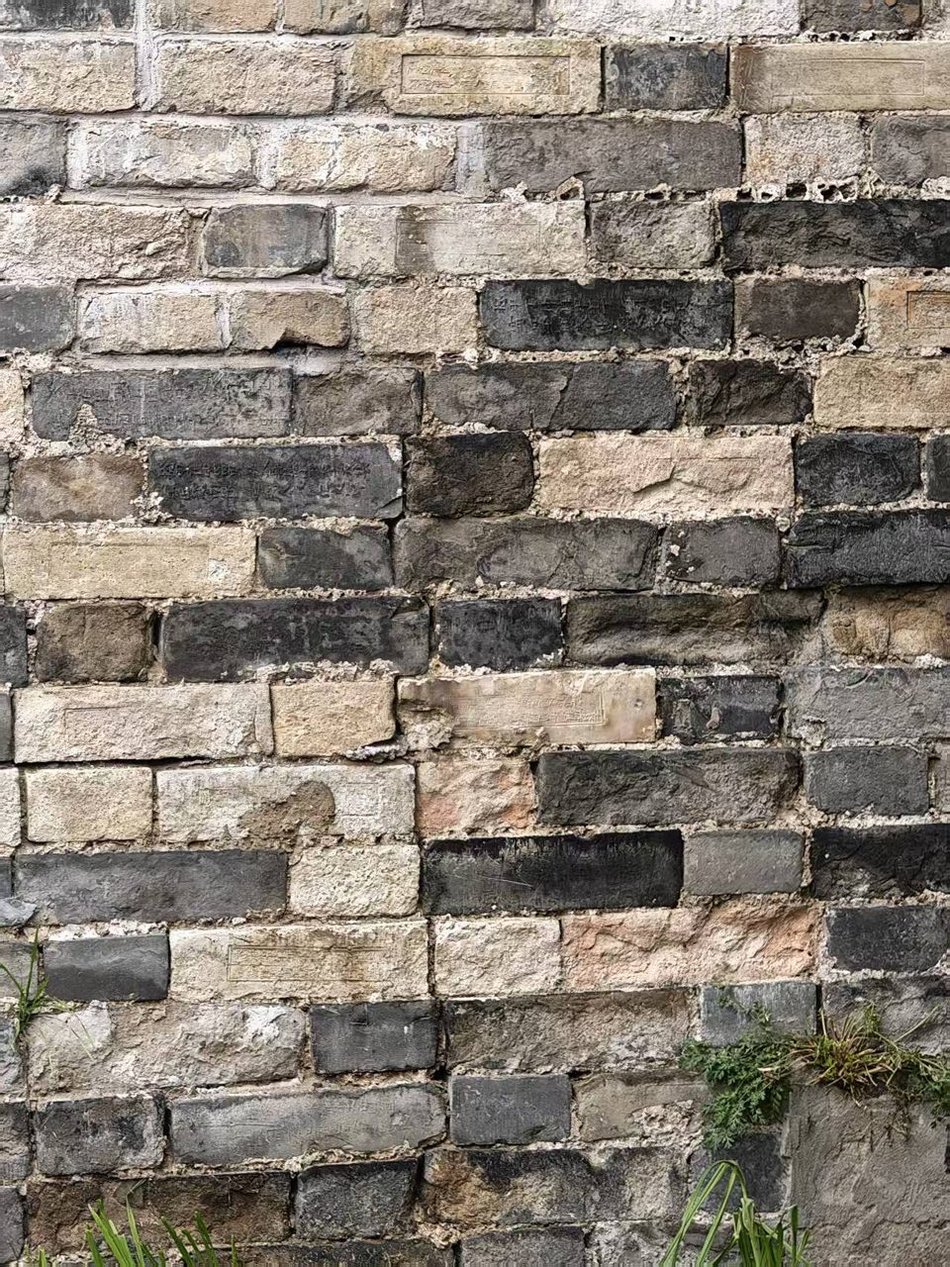crack: (368, 397, 492, 1247)
